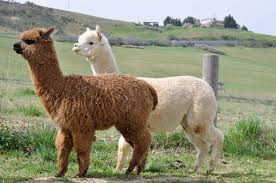alpaca: (71, 24, 225, 176), (12, 27, 158, 177)
